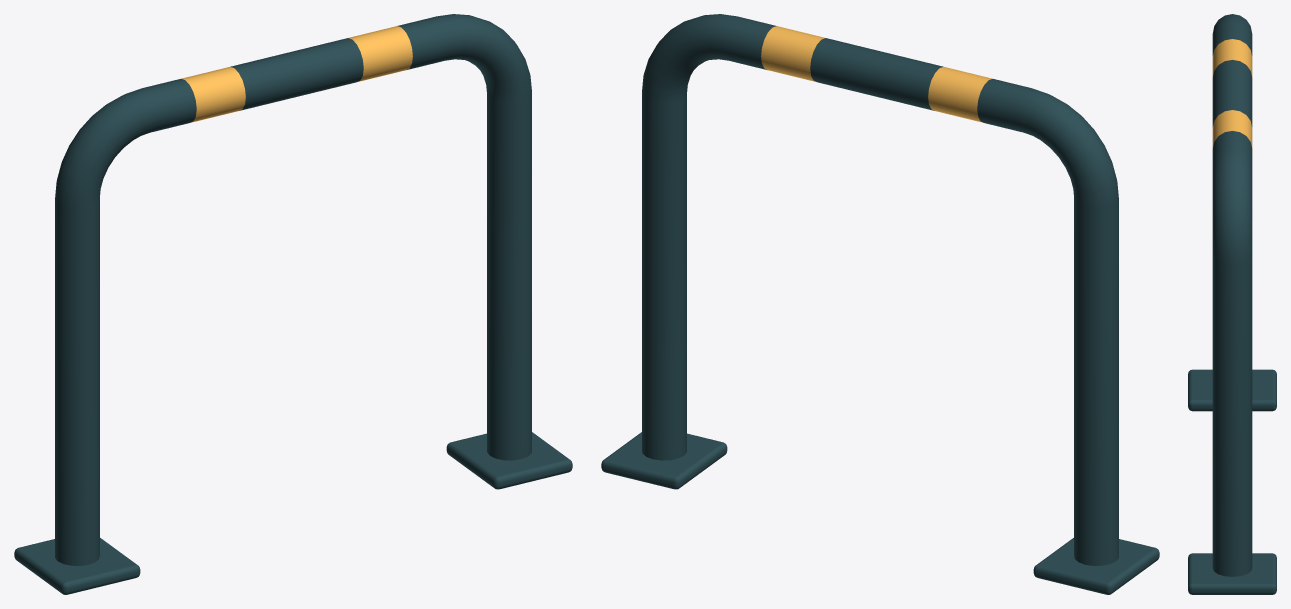
File: city_parking_furniture_03.glb
3 renders of one model, left to right at view 1: azimuth 30°, elevation 25°; view 2: azimuth 150°, elevation 25°; view 3: azimuth 270°, elevation 25°, orthographic. The views are drawn at different scales.
Visible parts, largest first — view 1: CityParkingFurniture03_Mesh; view 2: CityParkingFurniture03_Mesh; view 3: CityParkingFurniture03_Mesh.
Boxes of the visible parts, x1=… form: CityParkingFurniture03_Mesh: x1=14, y1=14, x2=572, y2=594; CityParkingFurniture03_Mesh: x1=601, y1=14, x2=1159, y2=594; CityParkingFurniture03_Mesh: x1=1188, y1=14, x2=1276, y2=594.
Size of the model in its own units: 1.04 by 0.9 by 0.18.
